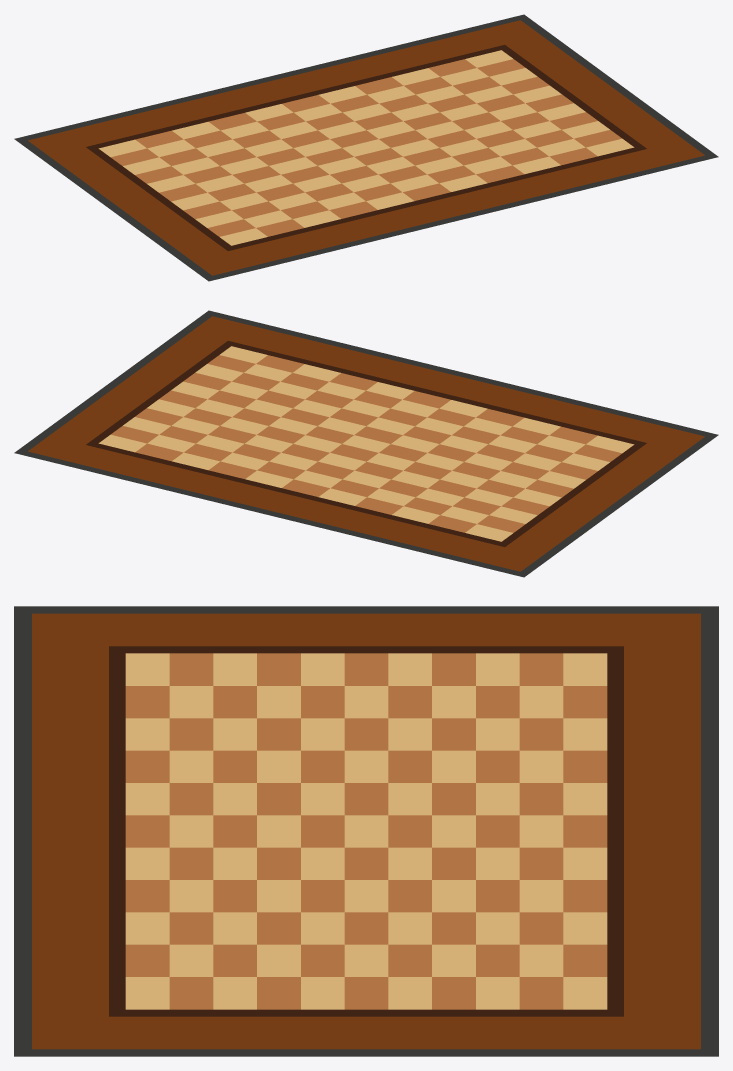
Rendered from Carper V2.fbx.
3 renders of one model, top to bottom at view 1: azimuth 30°, elevation 25°; view 2: azimuth 150°, elevation 25°; view 3: azimuth 270°, elevation 25°, orthographic. The views are drawn at different scales.
Visible parts, largest first — view 1: Carpet V2; view 2: Carpet V2; view 3: Carpet V2.
Boxes of the visible parts, x1,y1,x2,y2 form: Carpet V2: (14,14,718,281); Carpet V2: (14,310,718,577); Carpet V2: (14,606,718,1056).
Size of the model in its own units: 302 by 0 by 200.
